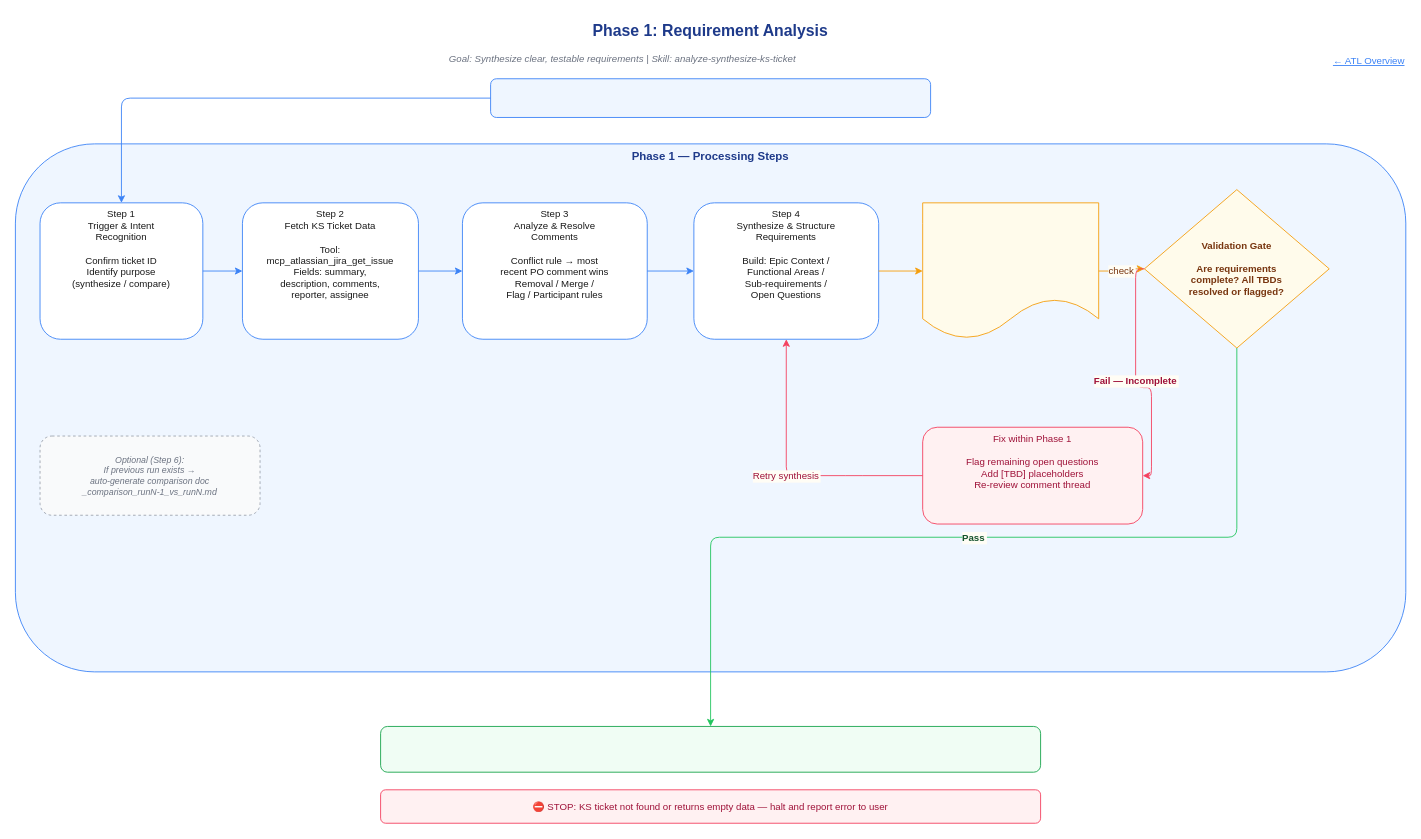
The diagram is 1421 pixels wide and 839 high, and some of its shapes have lost their labels. Each missing label, with the centre of its shape:
INPUT: KS-939 Jira Ticket ID: the point at 710,97
OUTPUT: _requirements_YYYYMMDD.md — Feeds into Phase 2: Test Design: the point at 710,749
Step 5 Auto-Save Requirements File _requirements_ YYYYMMDD.md (never overwrite): the point at 1010,270
